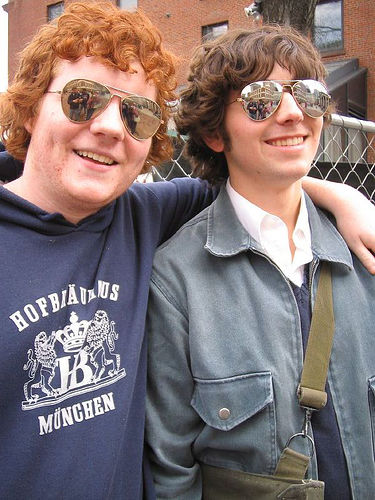without_mask: (27, 50, 162, 205), (215, 59, 326, 191)
